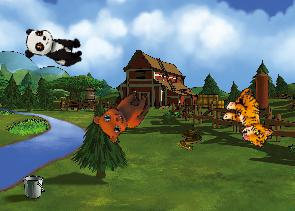bear: (88, 78, 155, 148)
panda: (21, 26, 86, 68)
tiger: (215, 83, 285, 151)
